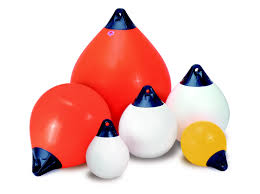buoy: (67, 27, 173, 141), (28, 84, 112, 172)
